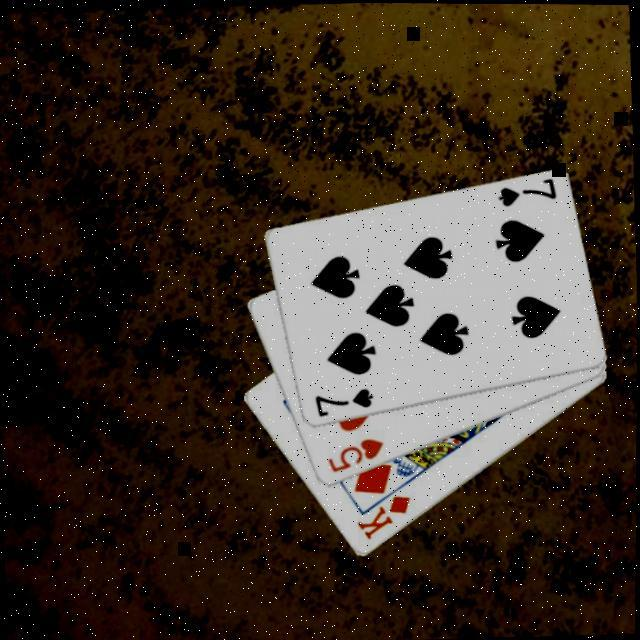5H: (323, 436, 386, 476)
7S: (493, 174, 558, 209), (310, 386, 376, 420)
KD: (352, 492, 414, 542)
